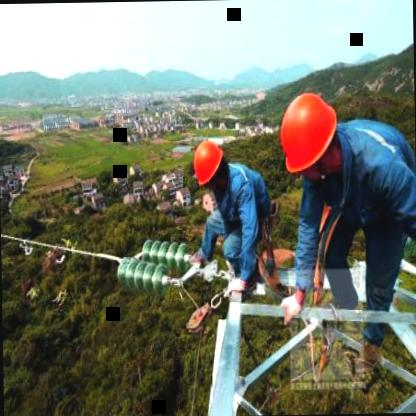helmet: (272, 86, 342, 186), (189, 134, 229, 193)
